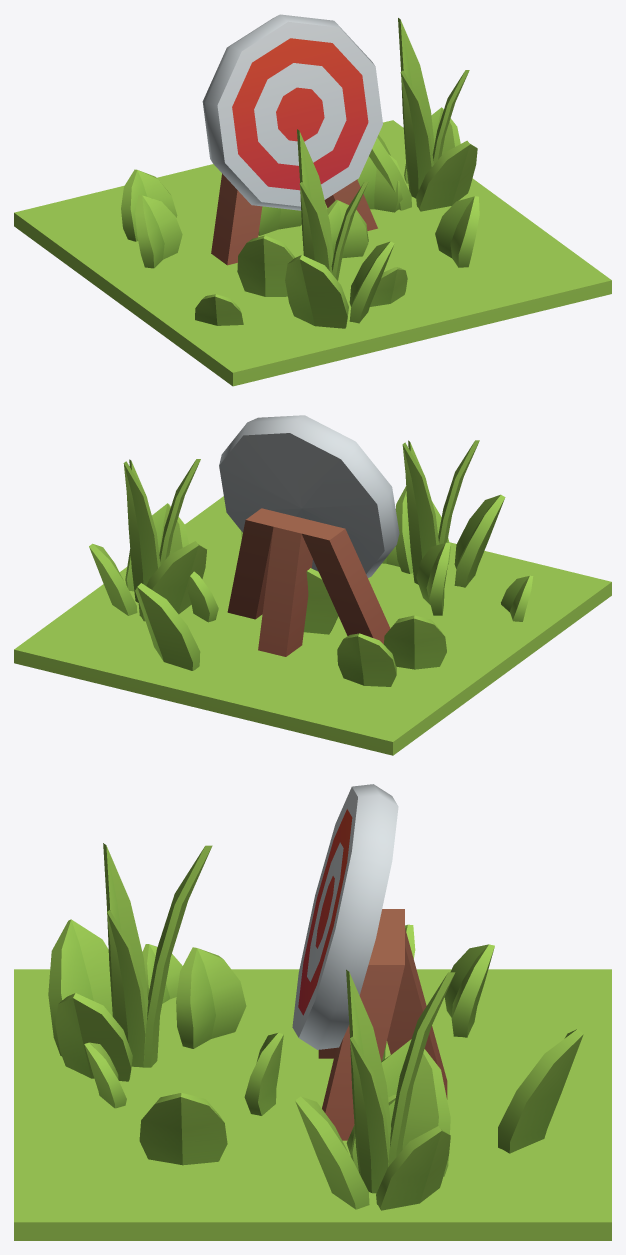
Rendered from target.glb.
3 renders of one model, top to bottom at view 1: azimuth 30°, elevation 25°; view 2: azimuth 150°, elevation 25°; view 3: azimuth 270°, elevation 25°, orthographic. The views are drawn at different scales.
Parts seen in each view (by area): view 1: Target; view 2: Target; view 3: Target.
Boxes of the visible parts, left/top/right/bottom form: Target: left=14, top=14, right=611, bottom=386; Target: left=14, top=415, right=611, bottom=755; Target: left=14, top=784, right=611, bottom=1240.
Bounding box in the file's own units: 0.29 × 0.1767 × 0.29.
Materials: 2 (2 with a texture image).
